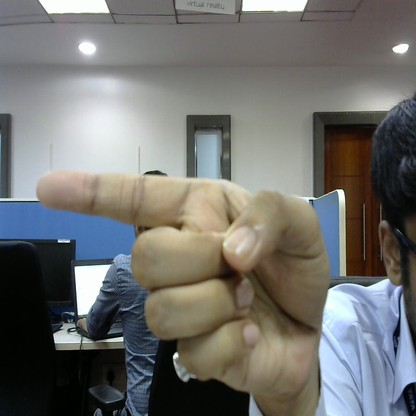g: (32, 149, 336, 402)
